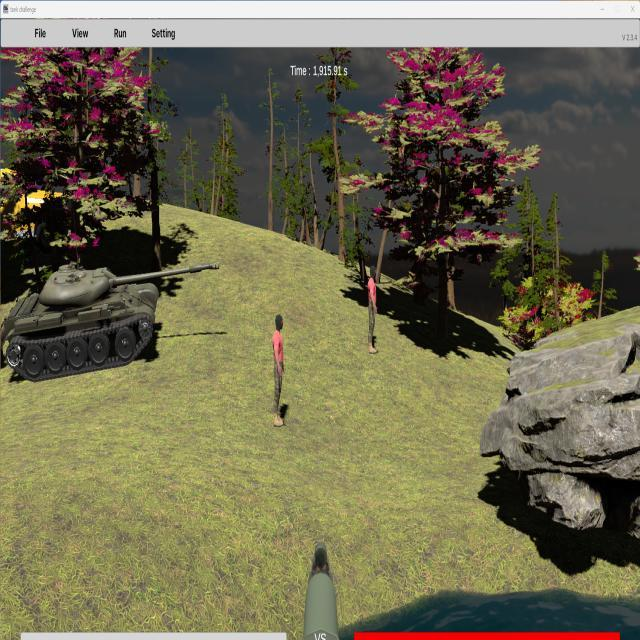Human: (272, 314, 286, 427), (368, 266, 378, 354)
Tank: (0, 261, 221, 383)
